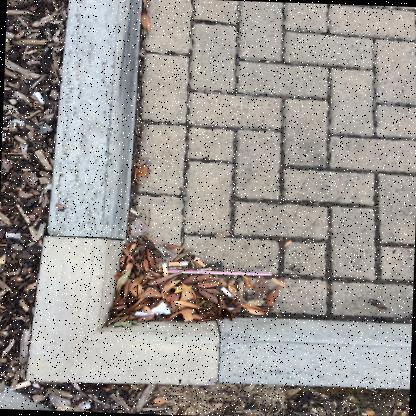Cigarette: (14, 381, 31, 390), (194, 257, 206, 268), (221, 287, 234, 297), (34, 92, 44, 105), (162, 263, 168, 277), (169, 262, 189, 266)
Normal paper: (135, 301, 171, 317)
Plastic straw: (168, 270, 272, 276)
